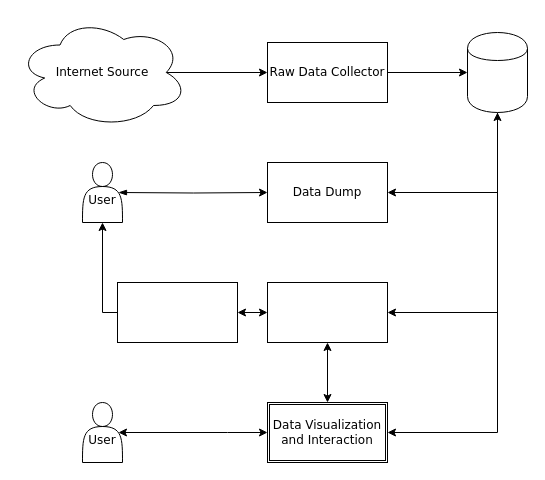
Some shapes in this 545 by 480 pixel diagram are drawn without their labels. The box of each missing label's shape, as (x1, y1, x2, y2) in pixels:
Data Analysis and Processing Unit: (266, 282, 388, 342)
Database: (466, 32, 528, 112)
Message and Automatic Trading Processing Unit: (116, 282, 238, 342)
